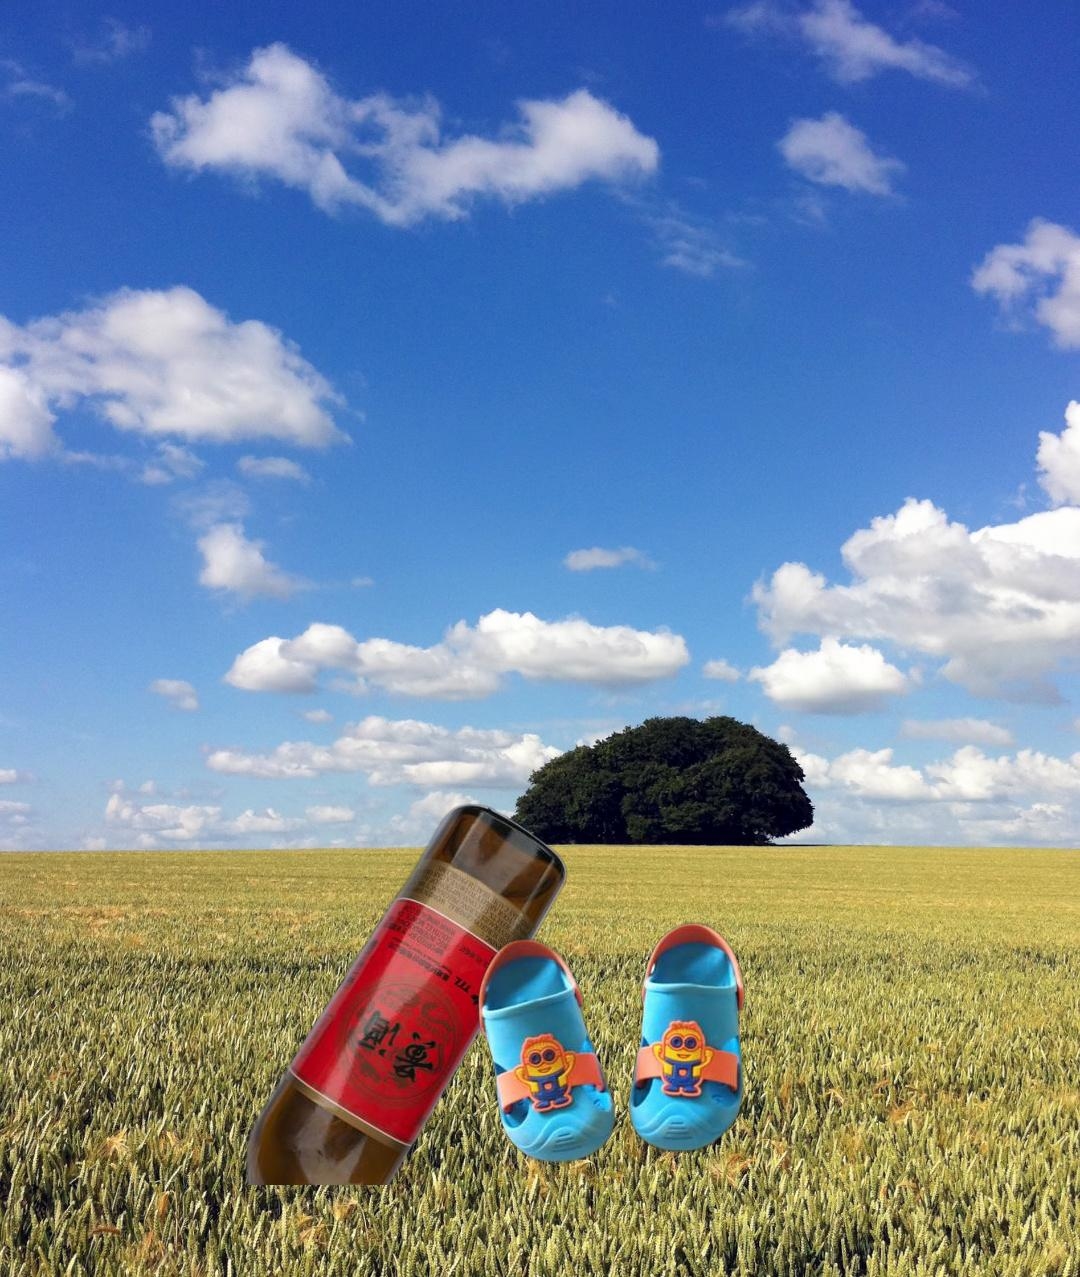glass: (243, 801, 570, 1185)
shoes: (476, 918, 748, 1167)
